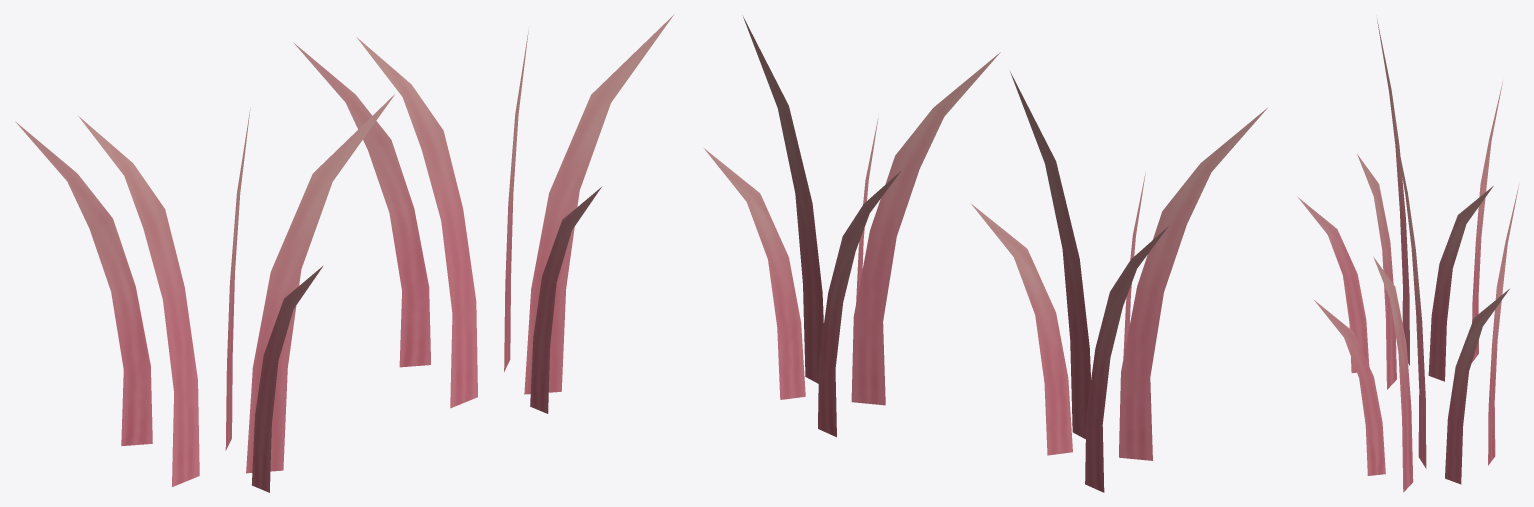
File: Pinkgrass_3.FBX
The picture shows the model from 3 angles, left to right: view 1: azimuth 30°, elevation 25°; view 2: azimuth 150°, elevation 25°; view 3: azimuth 270°, elevation 25°; orthographic projection. The views are drawn at different scales.
Parts seen in each view (by area): view 1: Line011; view 2: Line011; view 3: Line011.
Part boxes in pixels (left/top/right/bottom): Line011: left=15, top=14, right=674, bottom=492; Line011: left=704, top=15, right=1267, bottom=492; Line011: left=1297, top=17, right=1519, bottom=492.
Size of the model in its own units: 3.66 by 2.43 by 1.63.
